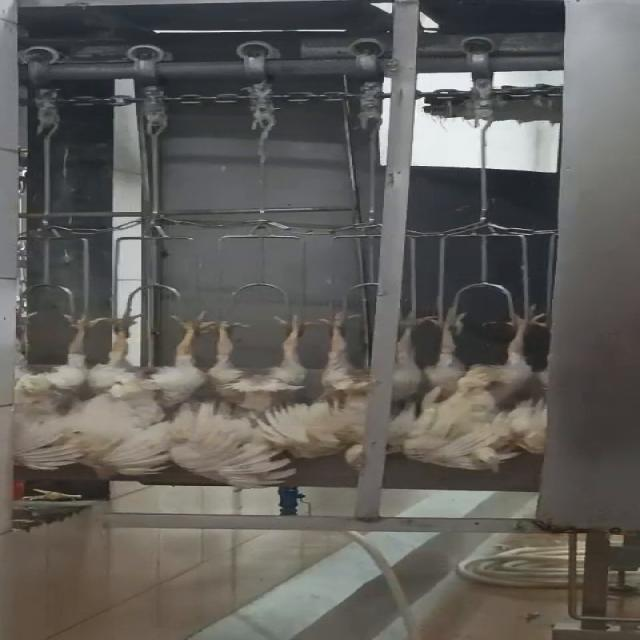chicken: (398, 294, 550, 477), (297, 308, 443, 476), (198, 310, 326, 490), (98, 313, 218, 478), (0, 302, 101, 477)
